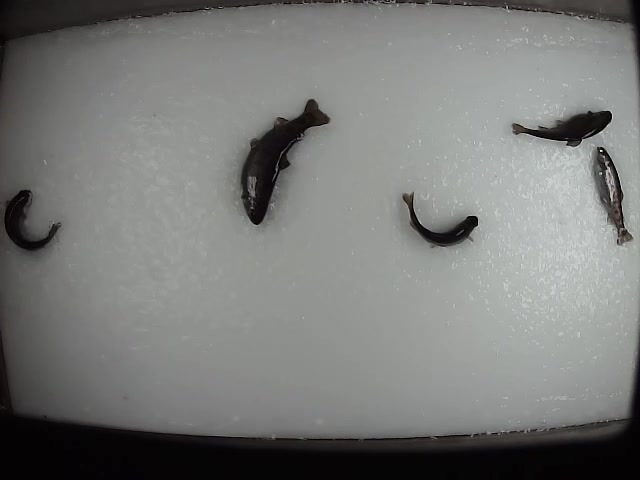fish: (238, 96, 332, 227), (399, 190, 482, 246), (509, 106, 613, 150), (590, 145, 635, 245), (2, 185, 63, 253)
